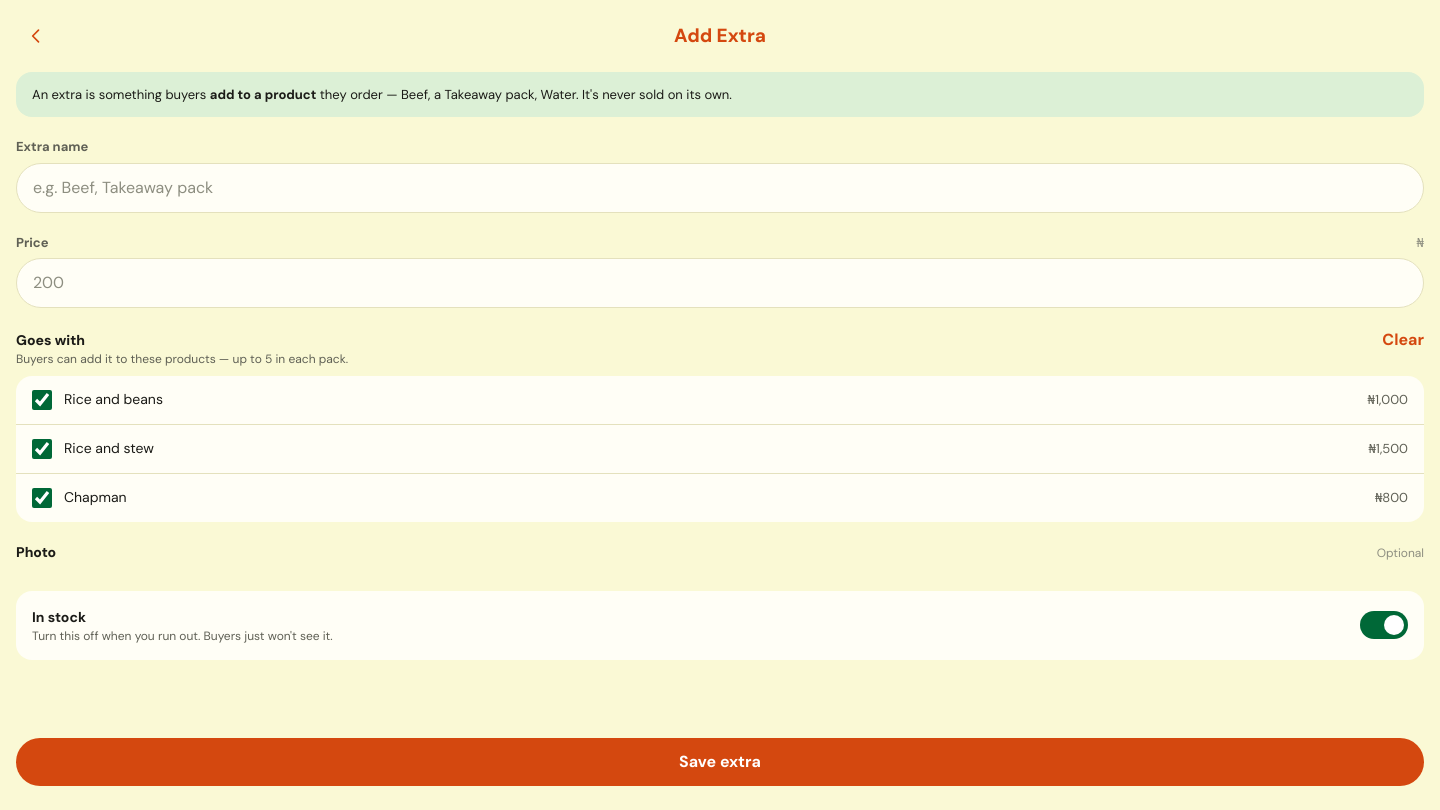
Test: ExtraForm — an extra on its own form › asks for a name and a price
Click the button "Save extra".
click(720, 762)  # box top-left (16, 738), bottom-right (1424, 786)
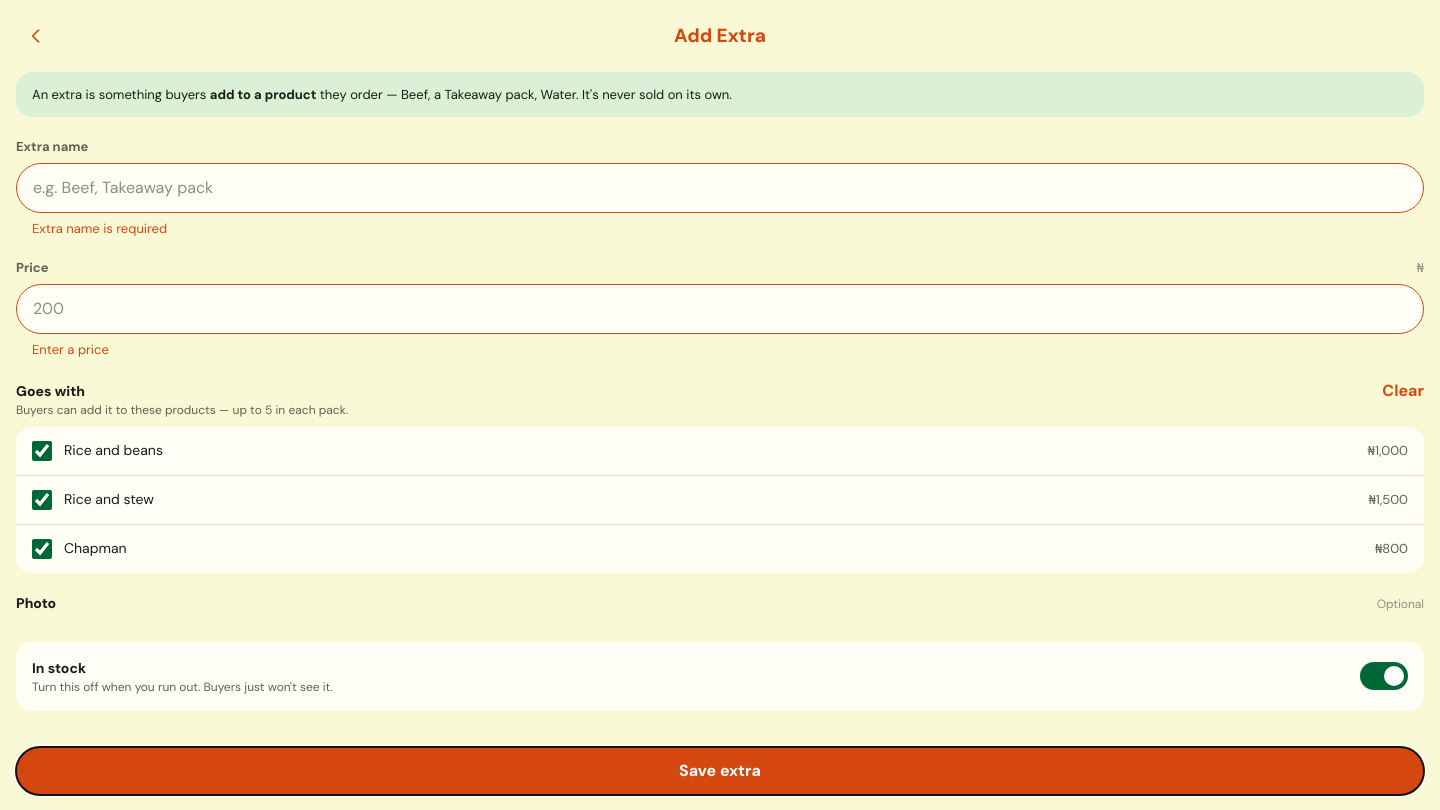
Check: the text "Enter a price" is shown, box top-left (32, 341), bottom-right (109, 358)
